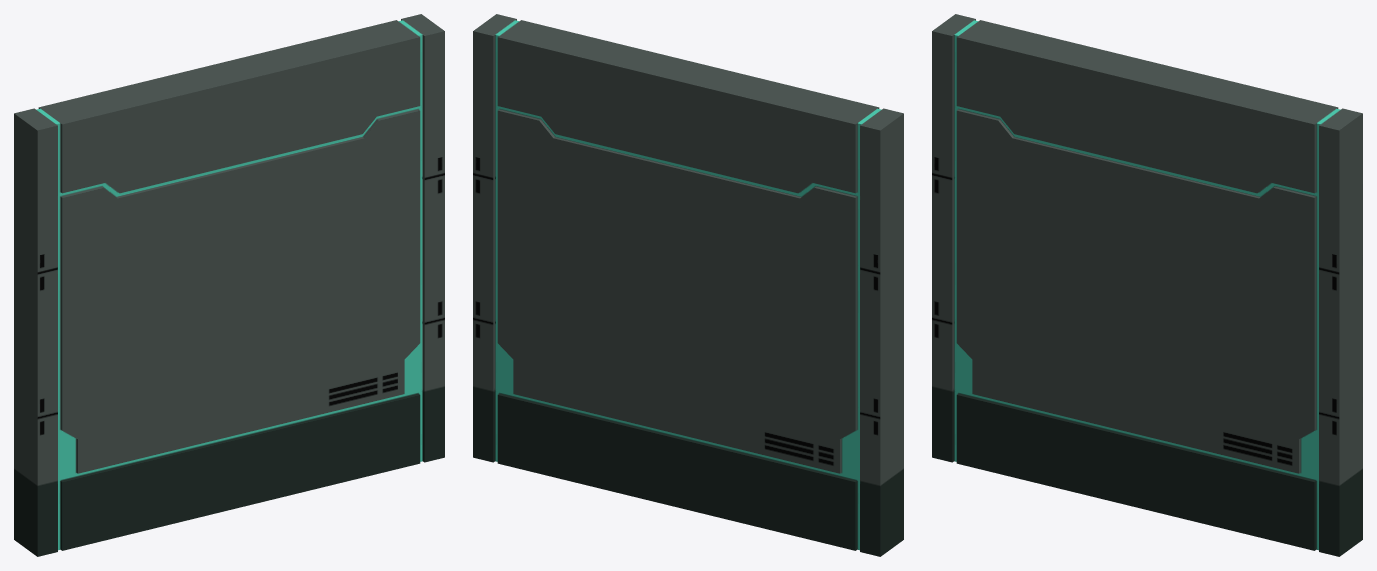
The model's file is BigWall.fbx.
The picture shows the model from 3 angles, left to right: view 1: azimuth 30°, elevation 25°; view 2: azimuth 150°, elevation 25°; view 3: azimuth 330°, elevation 25°; orthographic projection.
Visible parts, largest first — view 1: BigWall; view 2: BigWall; view 3: BigWall.
Boxes of the visible parts, x1,y1,x2,y2 form: BigWall: (14,14,444,556); BigWall: (473,14,903,556); BigWall: (932,14,1362,556).
Bounding box in the file's own units: 300 × 300 × 30.
